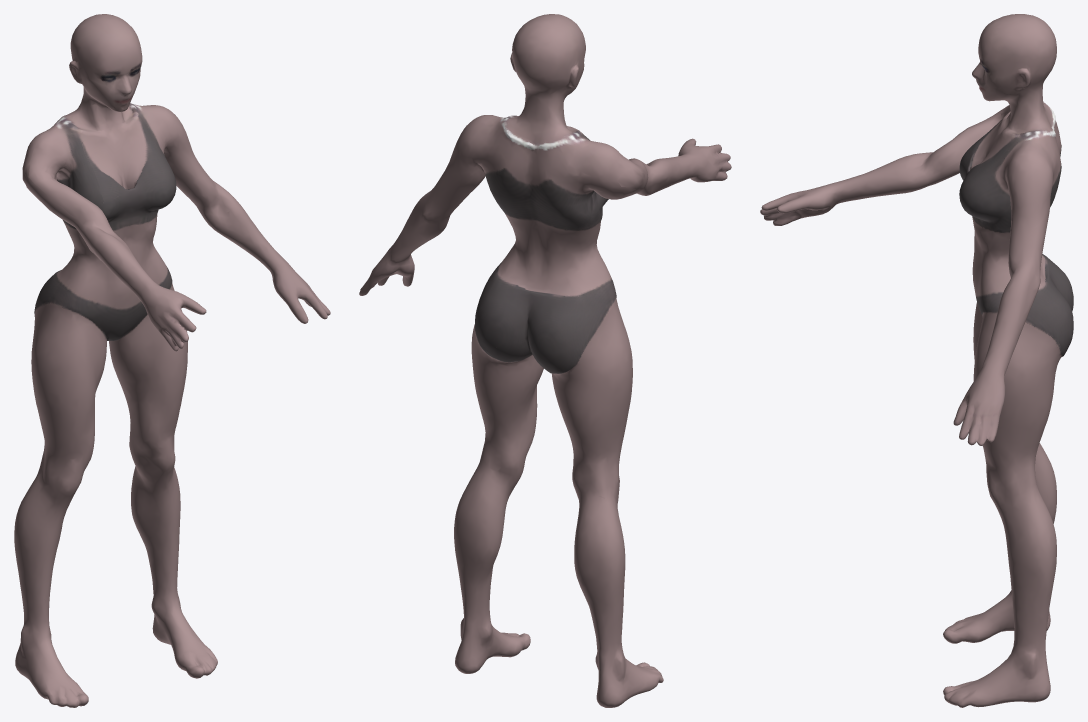
The model's file is 01-UpperArmL-60-child0-twist0-candidate.glb.
3 views of the same model, side by side, from view 1: azimuth 30°, elevation 25°; view 2: azimuth 150°, elevation 25°; view 3: azimuth 270°, elevation 25° (orthographic). The views are drawn at different scales.
Visible parts, largest first — view 1: candidate; view 2: candidate; view 3: candidate.
Boxes of the visible parts, x1=… form: candidate: x1=14, y1=14, x2=330, y2=707; candidate: x1=359, y1=14, x2=731, y2=707; candidate: x1=760, y1=14, x2=1073, y2=707.
Bounding box in the file's own units: 0.4619 × 1 × 0.4362.
1 material, 1 textured.
